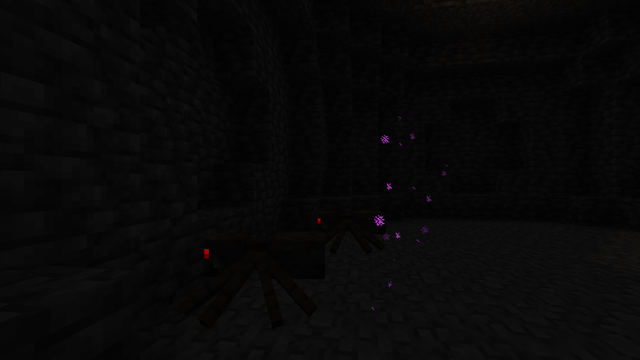araignees: (182, 220, 316, 322), (312, 205, 374, 252)
